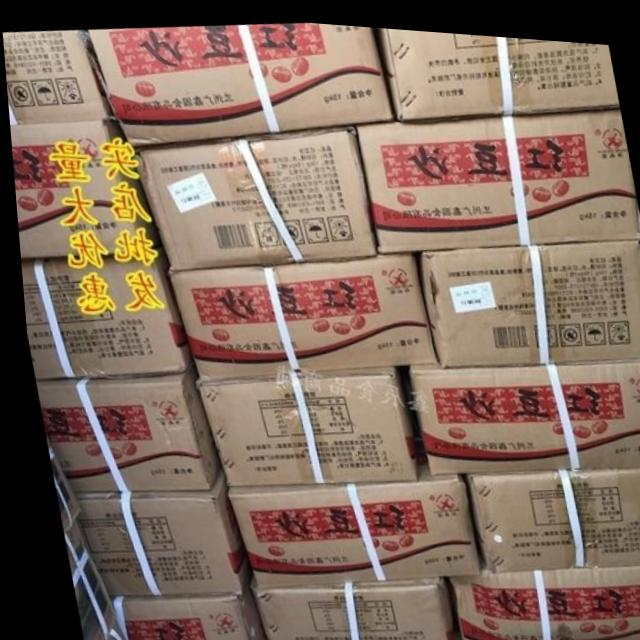box: (353, 100, 639, 248), (220, 429, 471, 585), (87, 18, 391, 145), (127, 119, 374, 268), (163, 245, 430, 378), (411, 229, 640, 360), (401, 346, 640, 469), (189, 360, 410, 483), (30, 356, 214, 491), (17, 240, 187, 379), (65, 464, 240, 595), (379, 22, 618, 115), (8, 118, 156, 258), (457, 459, 640, 566), (438, 557, 640, 640), (240, 570, 446, 640), (99, 562, 257, 640), (2, 29, 118, 124)
